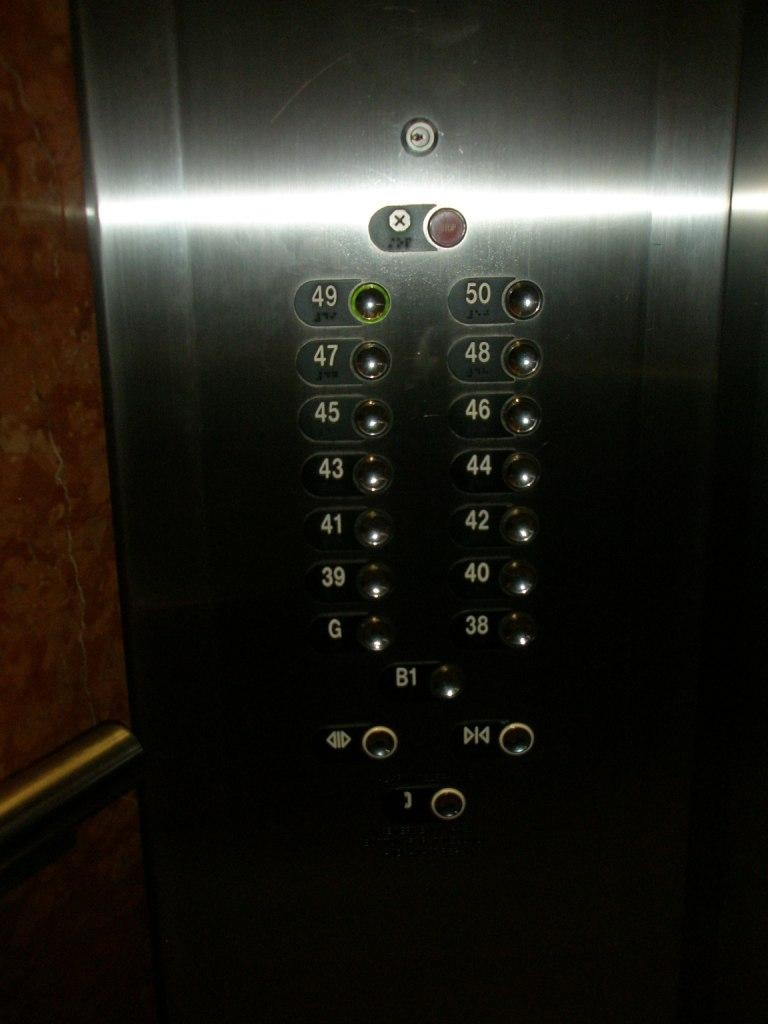38: (450, 603, 549, 654)
39: (300, 558, 399, 606)
40: (450, 549, 548, 602)
41: (297, 503, 398, 554)
42: (450, 499, 548, 549)
43: (297, 449, 398, 501)
44: (450, 444, 547, 498)
45: (294, 393, 399, 446)
46: (449, 388, 545, 441)
47: (294, 334, 399, 388)
48: (449, 333, 546, 386)
49: (291, 275, 393, 329)
50: (448, 274, 547, 327)
B1: (380, 658, 470, 704)
G: (302, 608, 400, 658)
call: (377, 780, 477, 826)
close: (450, 715, 541, 761)
keyhole: (401, 115, 439, 157)
open: (311, 719, 403, 767)
stop: (366, 202, 471, 255)
